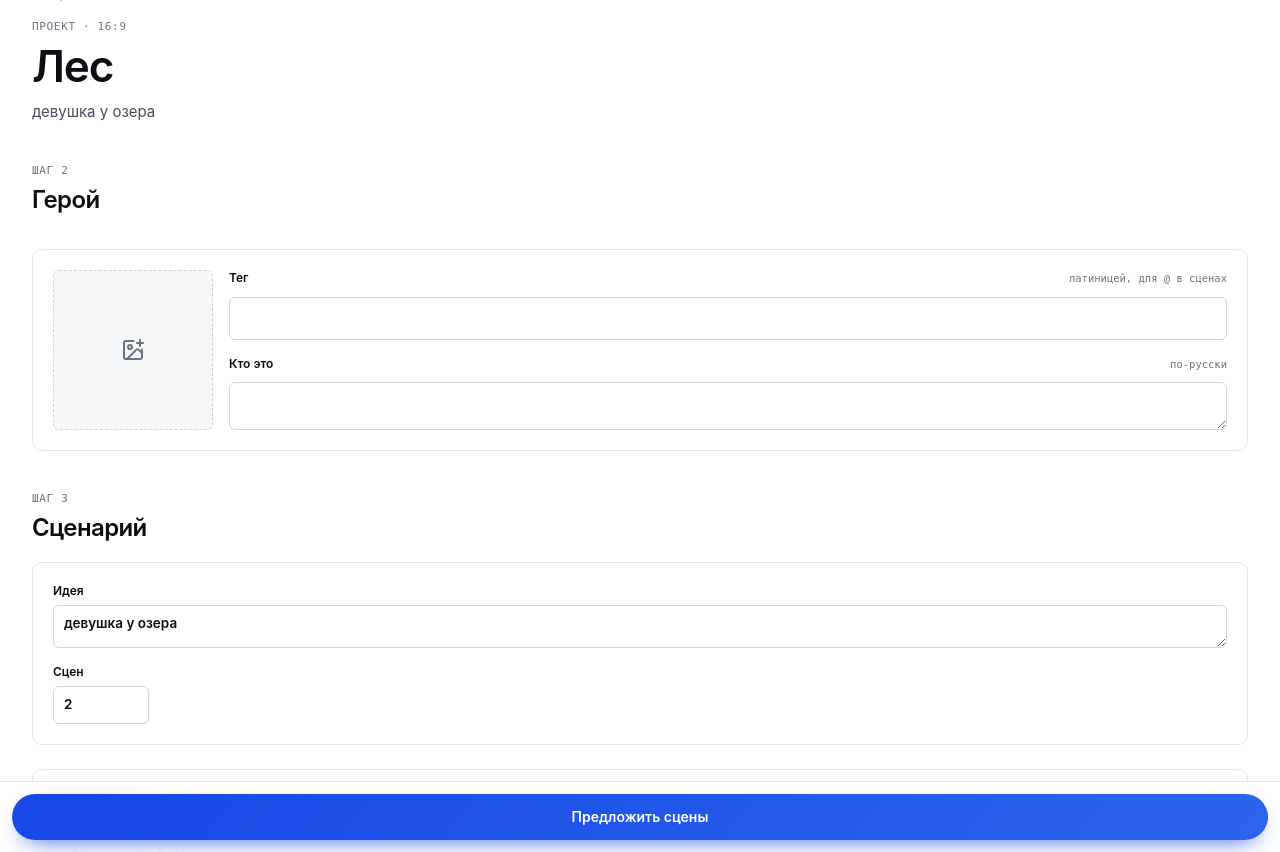
phone bar: the main action of the step in hand › follows the owner from step to step by priority
Expected: the button reads "Предложить сцены", [12,794,1268,840]
Type "anna" into the field labelled "Тег латиницей, для @ в сценах" at (728, 318), box [229,297,1227,340]
(page scrolled)
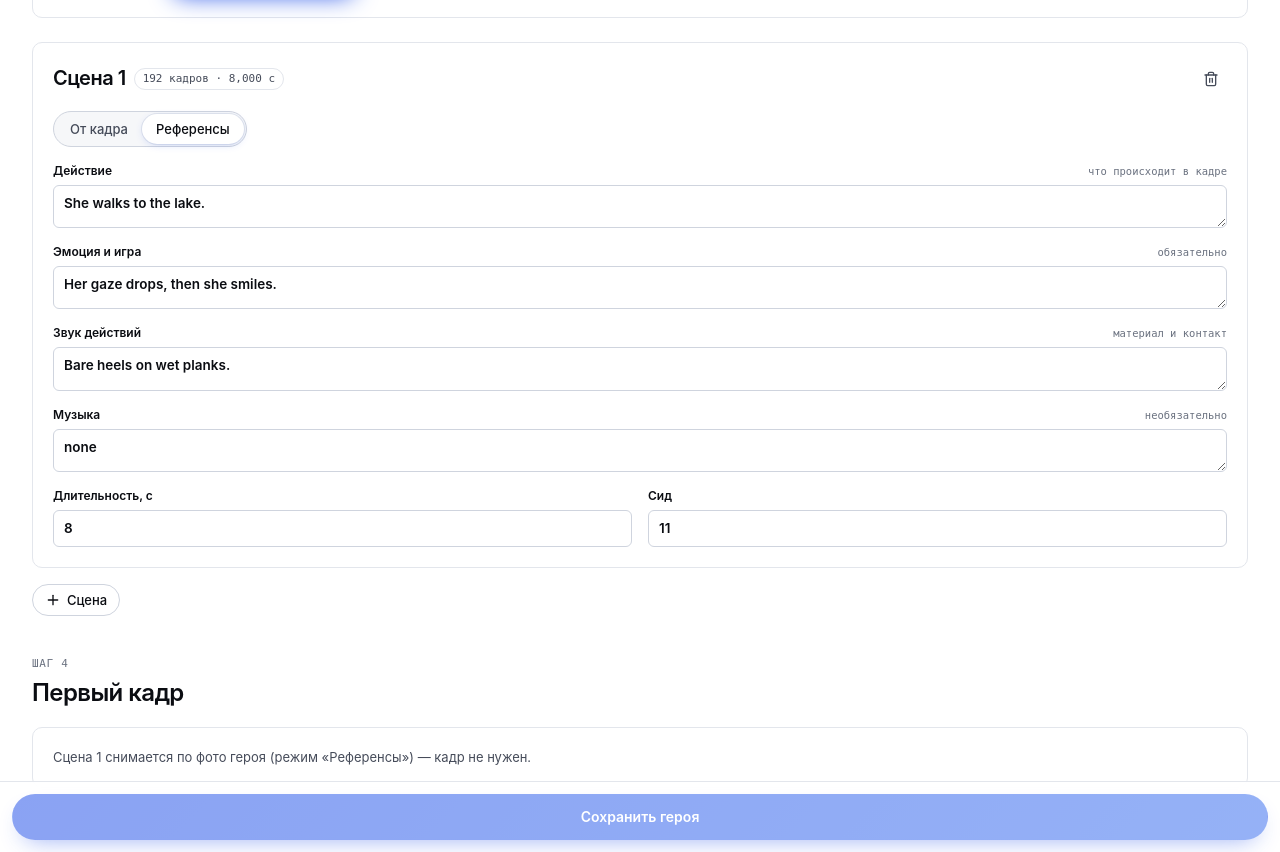
Now the button "Сохранить героя" is shown, box [12,794,1268,840]
Type "!" into the text box labelled "Музыка необязательно" at (640, 450), box [53,428,1227,472]
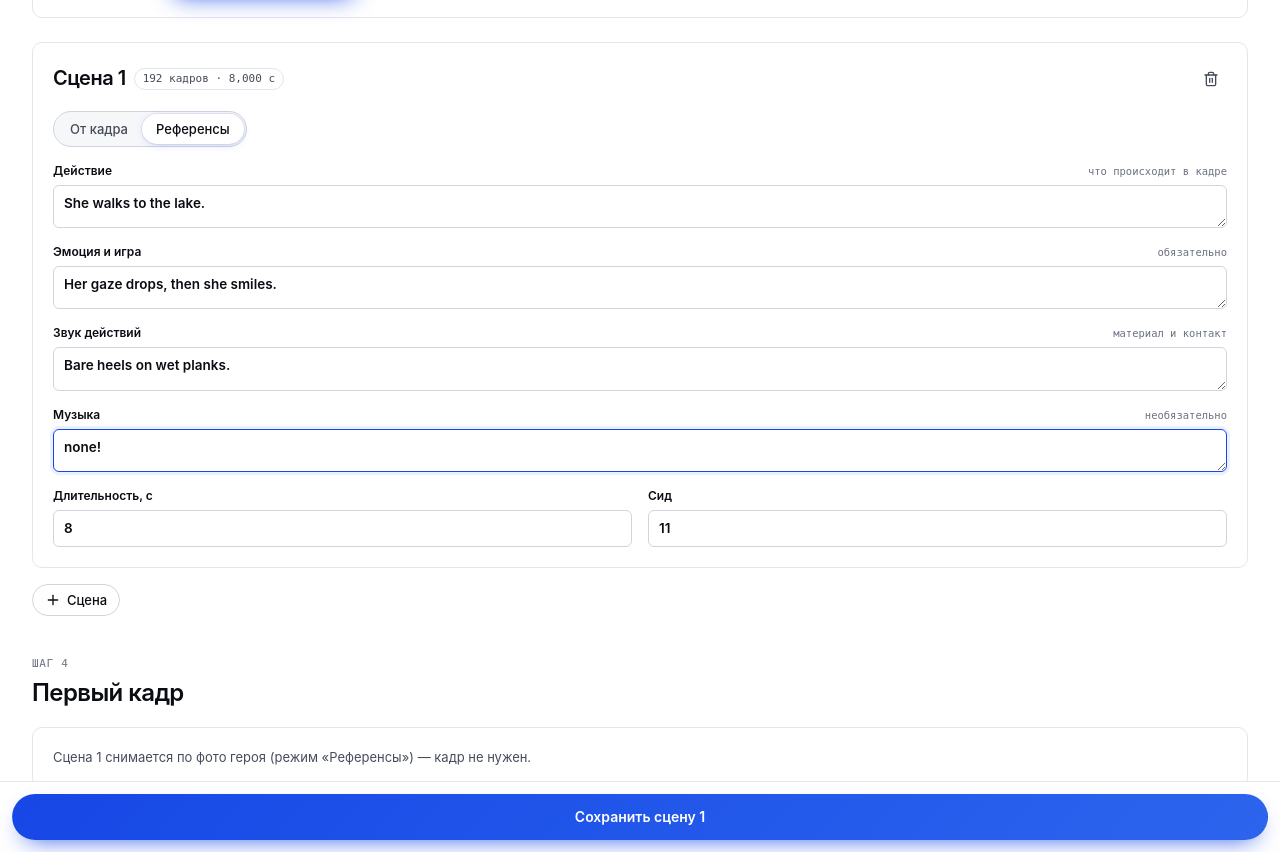
Now the button "Сохранить сцену 1" is shown, box [12,794,1268,840]
